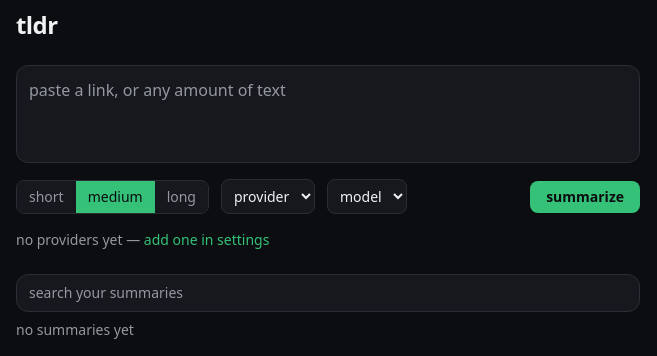
it: home page › paints partial text then the full text
Type "x" into the text box with placeholder "paste a link, or any amount of text".
click(328, 114); type("x")  # box [16, 65, 640, 163]
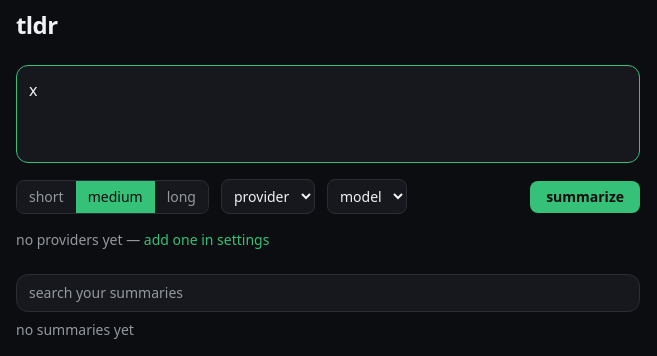
Type keys "{Control>}{Enter}{/Control}"
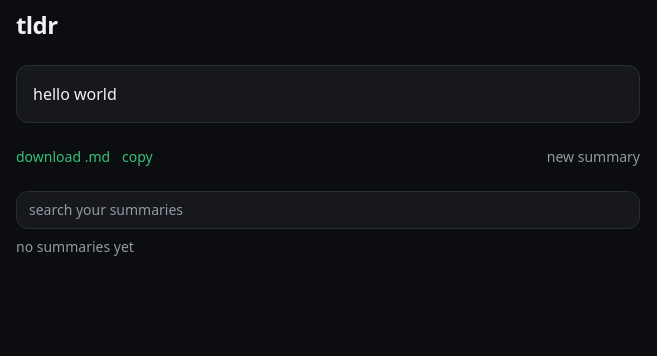
Now the text "hello world" is shown, box [33, 83, 117, 105]
